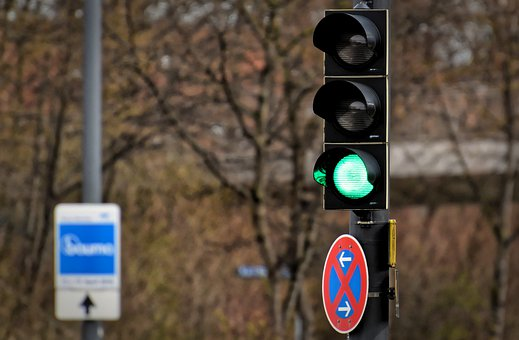trafic: (313, 10, 391, 209)
